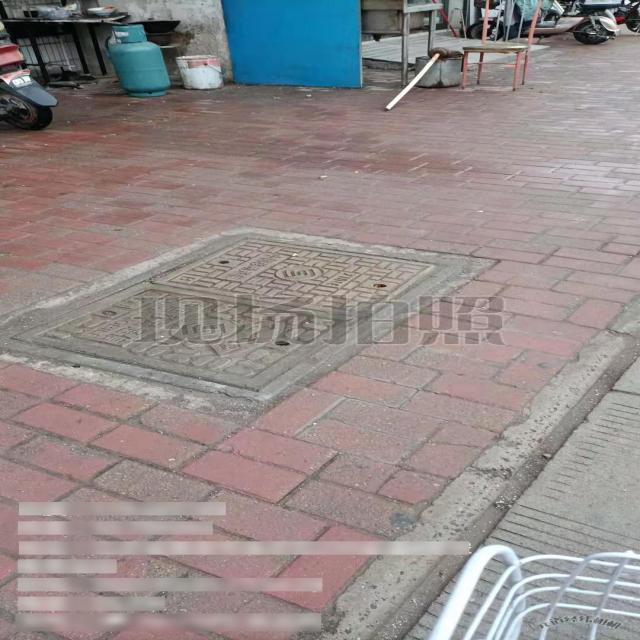Good: (3, 232, 468, 402)
